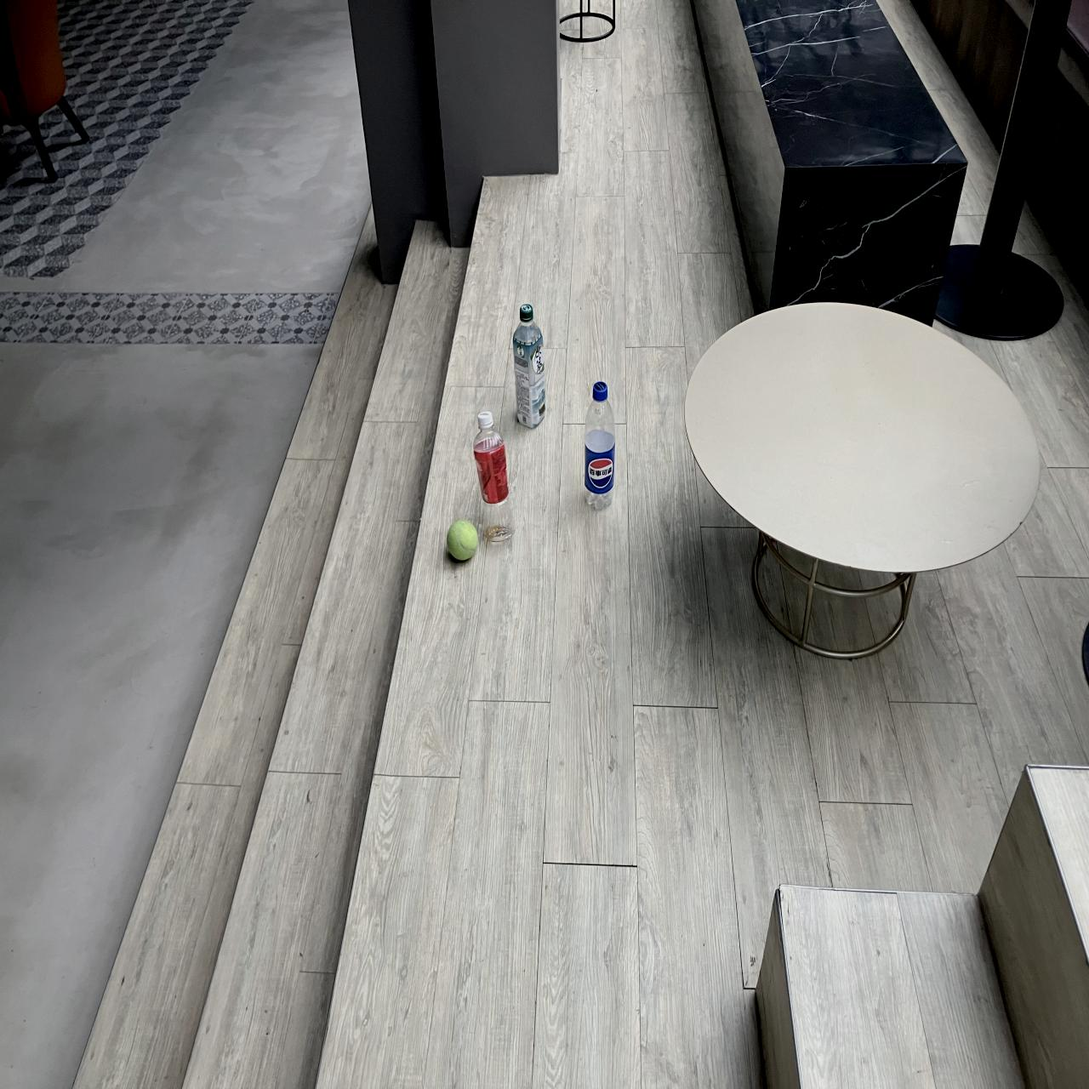plastic-bottle: (474, 411, 511, 542), (584, 381, 615, 509), (513, 305, 545, 427)
tennisball: (447, 520, 478, 561)
